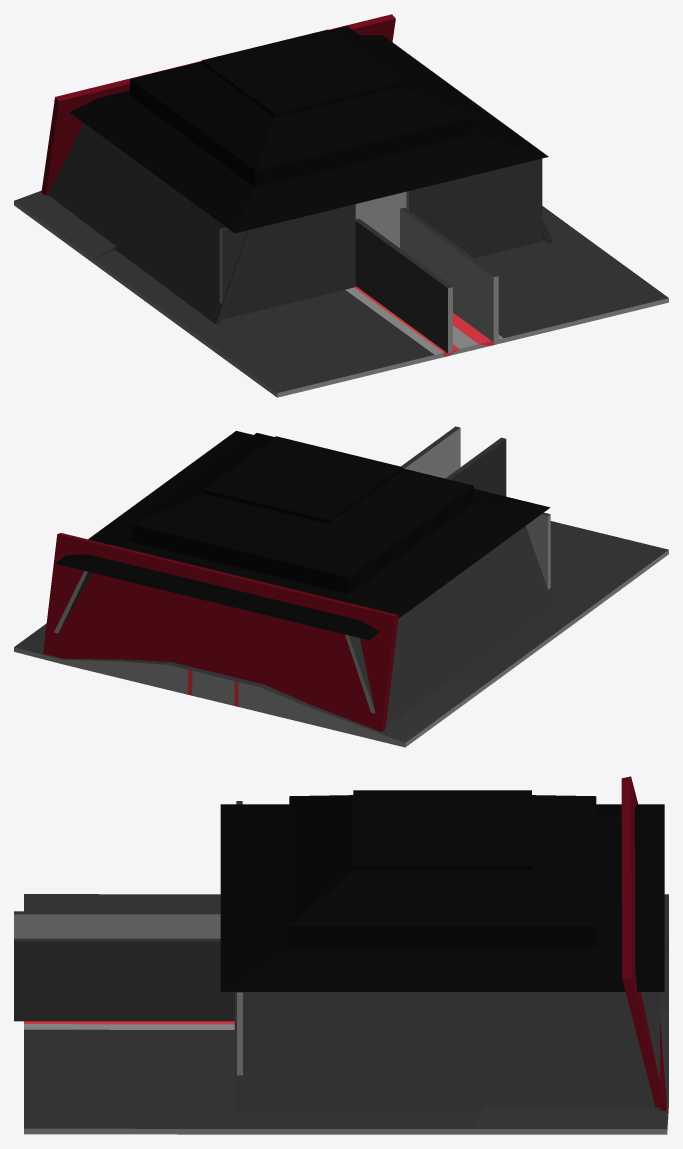
Rendered from Laboratorio adentro2.fbx.
3 renders of one model, top to bottom at view 1: azimuth 30°, elevation 25°; view 2: azimuth 150°, elevation 25°; view 3: azimuth 270°, elevation 25°, orthographic. The views are drawn at different scales.
Visible parts, largest first — view 1: Techo, Cube.010, Cube.006, Cube.008, Cube.007, Cube, Cube.012, Pared trasera, Cube.011; view 2: Techo, Pared trasera, Cube.010, Cube.006, Cube, Cube.012, Cube.008, Cube.005; view 3: Techo, Cube.005, Cube.010, Cube.012, Cube, Pared trasera.
Boxes of the visible parts, x1,y1,x2,y2 form: Techo: [54, 26, 548, 233]; Cube.010: [14, 190, 668, 397]; Cube.006: [48, 123, 252, 324]; Cube.008: [219, 204, 355, 319]; Cube.007: [406, 158, 542, 257]; Cube: [355, 218, 452, 353]; Cube.012: [400, 207, 498, 342]; Pared trasera: [41, 14, 395, 195]; Cube.011: [355, 192, 406, 247]; Techo: [55, 431, 550, 640]; Pared trasera: [43, 533, 398, 731]; Cube.010: [14, 521, 668, 747]; Cube.006: [344, 526, 557, 725]; Cube: [445, 437, 506, 496]; Cube.012: [401, 426, 460, 478]; Cube.008: [526, 512, 550, 589]; Cube.005: [54, 571, 92, 633]; Techo: [220, 790, 664, 991]; Cube.005: [234, 992, 659, 1112]; Cube.010: [24, 894, 668, 1134]; Cube.012: [14, 938, 234, 1021]; Cube: [14, 911, 220, 938]; Pared trasera: [621, 776, 666, 1111].
Bounding box in the file's own units: 1952 × 737 × 2308.
